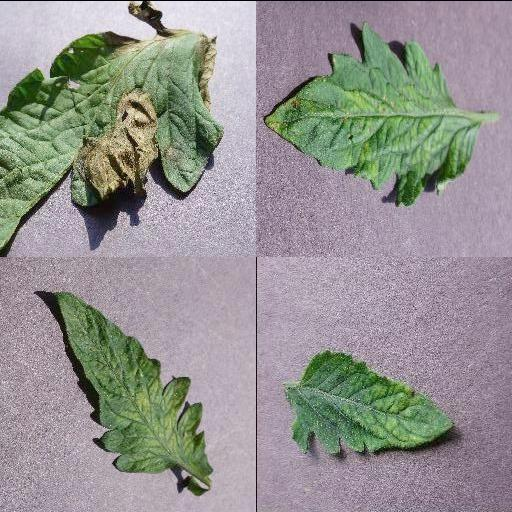Late Blight: (0, 0, 224, 252)
Mosaic Virus: (262, 20, 481, 206), (52, 289, 214, 479), (287, 348, 457, 456)
